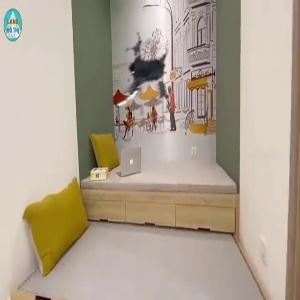drone: (89, 28, 187, 126)
